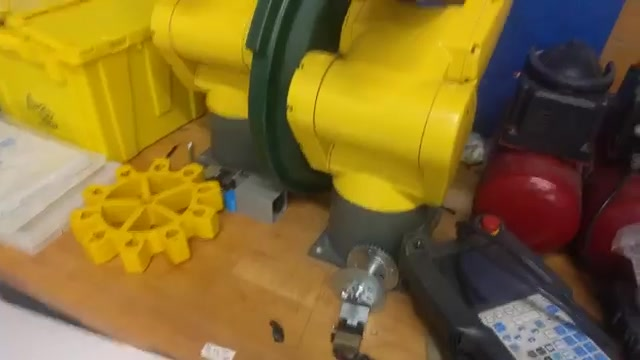gear: (65, 153, 222, 273)
